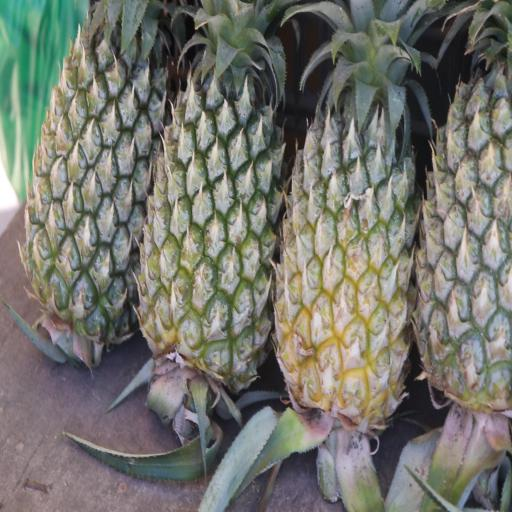------------------------------: (266, 0, 424, 444)
